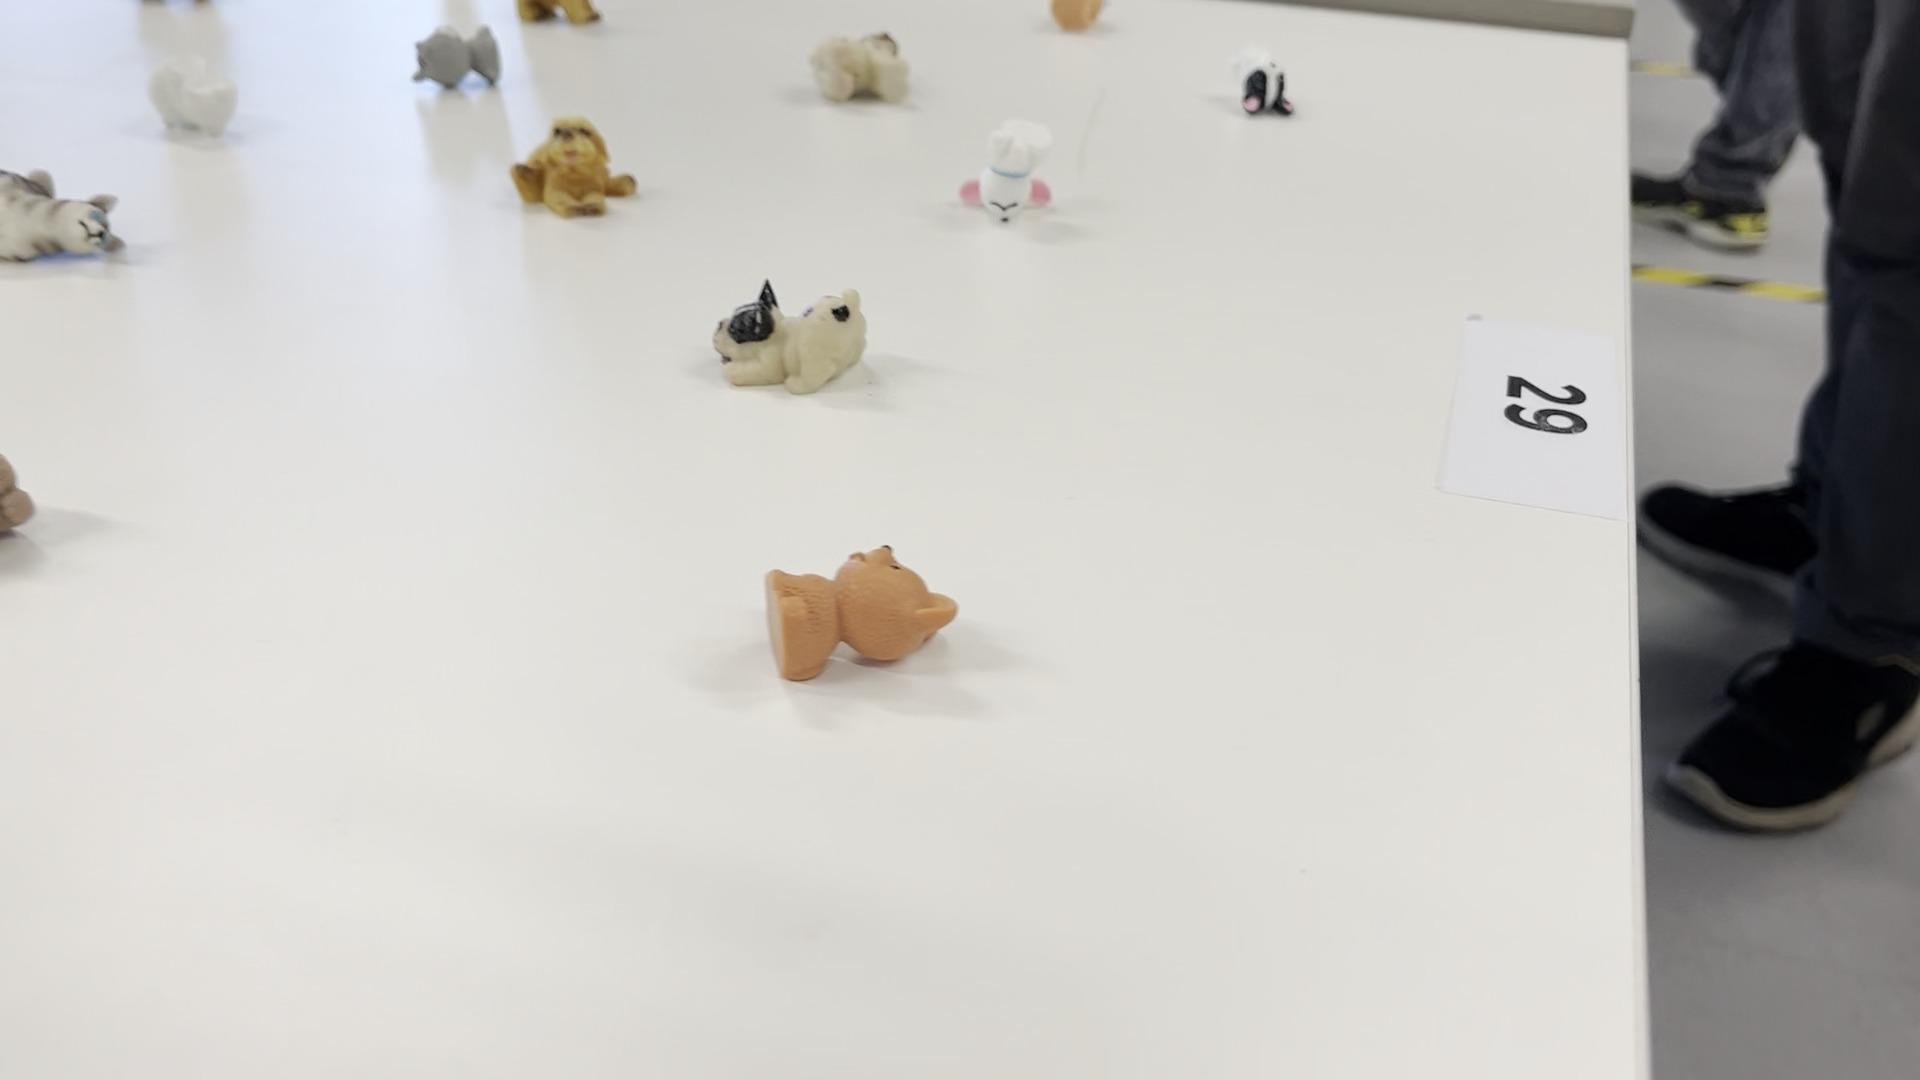pet: (758, 535, 963, 687), (705, 273, 870, 400), (504, 108, 641, 220), (0, 156, 136, 268), (956, 109, 1058, 237), (144, 45, 253, 150), (803, 25, 918, 108), (1211, 42, 1305, 123), (411, 20, 510, 92)
